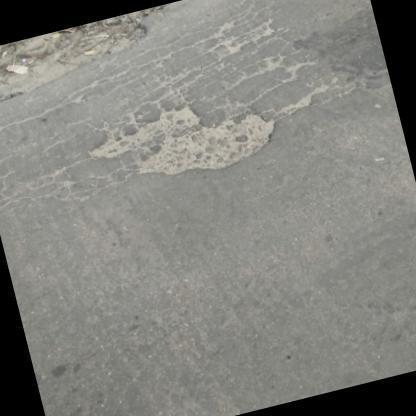pothole: (87, 106, 280, 172)
